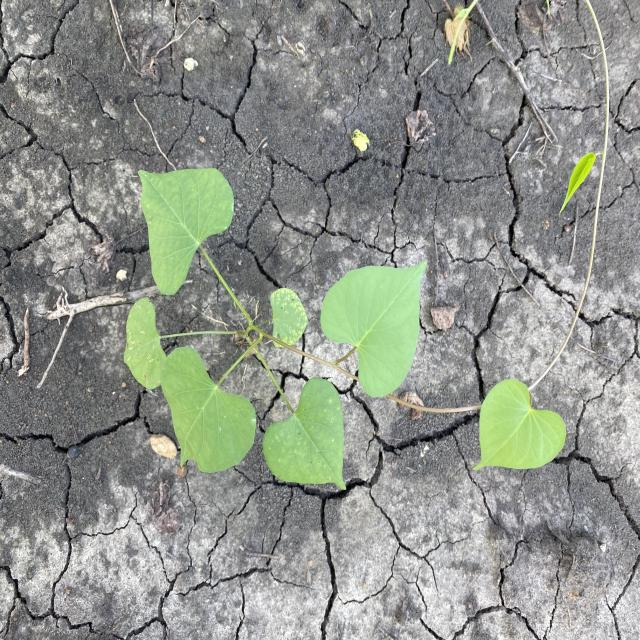MorningGlory: (121, 3, 611, 493)
